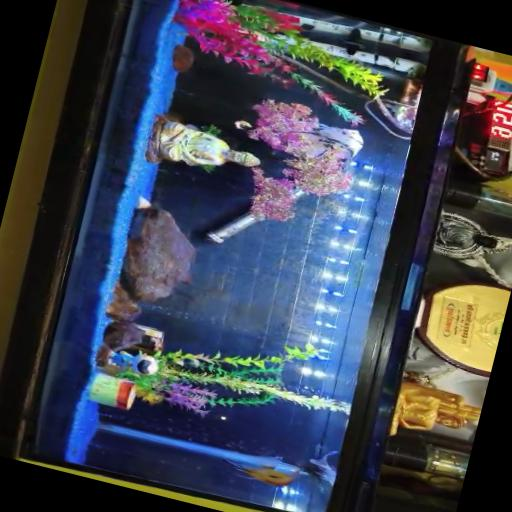Fish: (267, 120, 363, 160), (290, 123, 363, 159), (224, 459, 298, 485), (308, 450, 337, 484), (233, 119, 251, 128)
